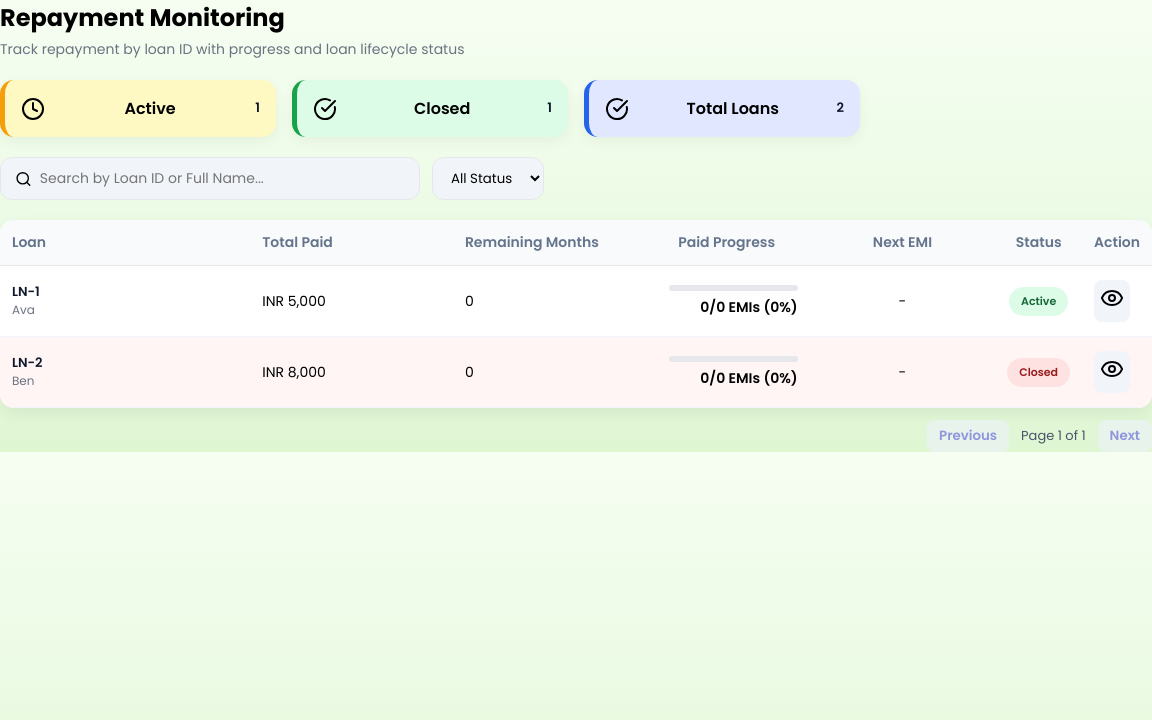
Test: Repayments › toggles status filter from KPI cards
Expected: the text "LN-1" is shown, [12,282,40,301]
Expected: the text "LN-2" is shown, [12,353,43,372]
Step 1. Click the button "Active 1" → (138, 108), box [0,80,276,137]
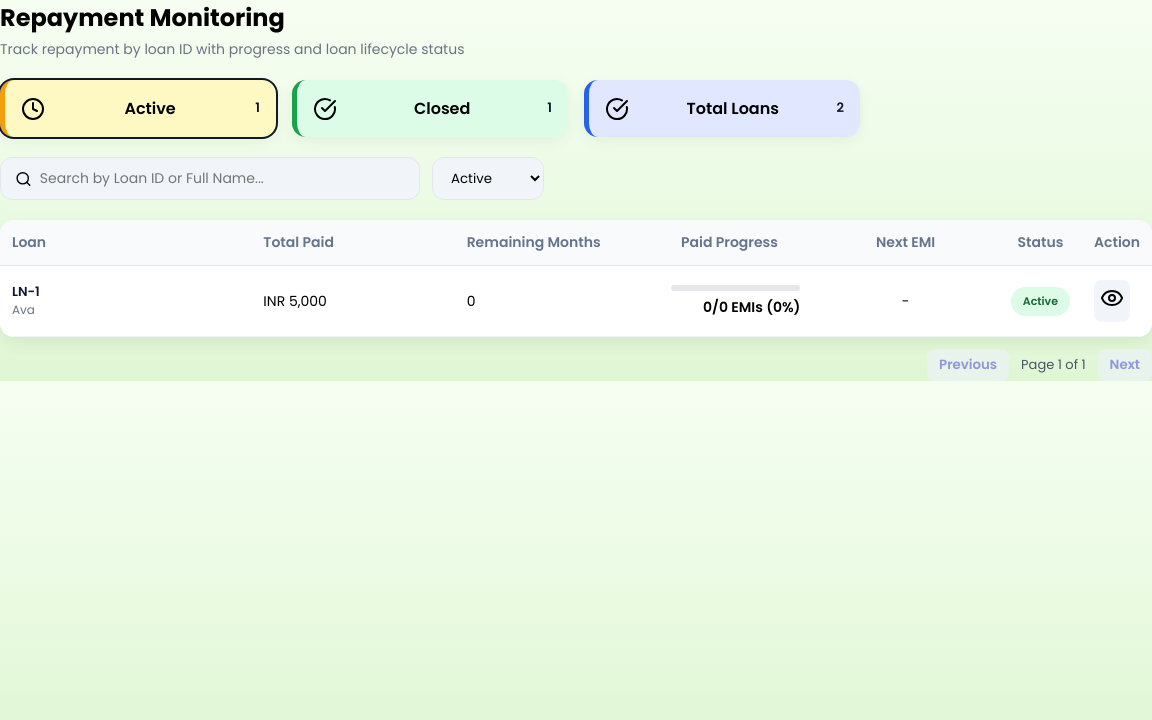
Expected: the text "LN-1" is shown, [12,282,40,301]
Now the text "LN-2" is gone
Step 2. Click the button "Active 1" → (138, 108), box [0,80,276,137]
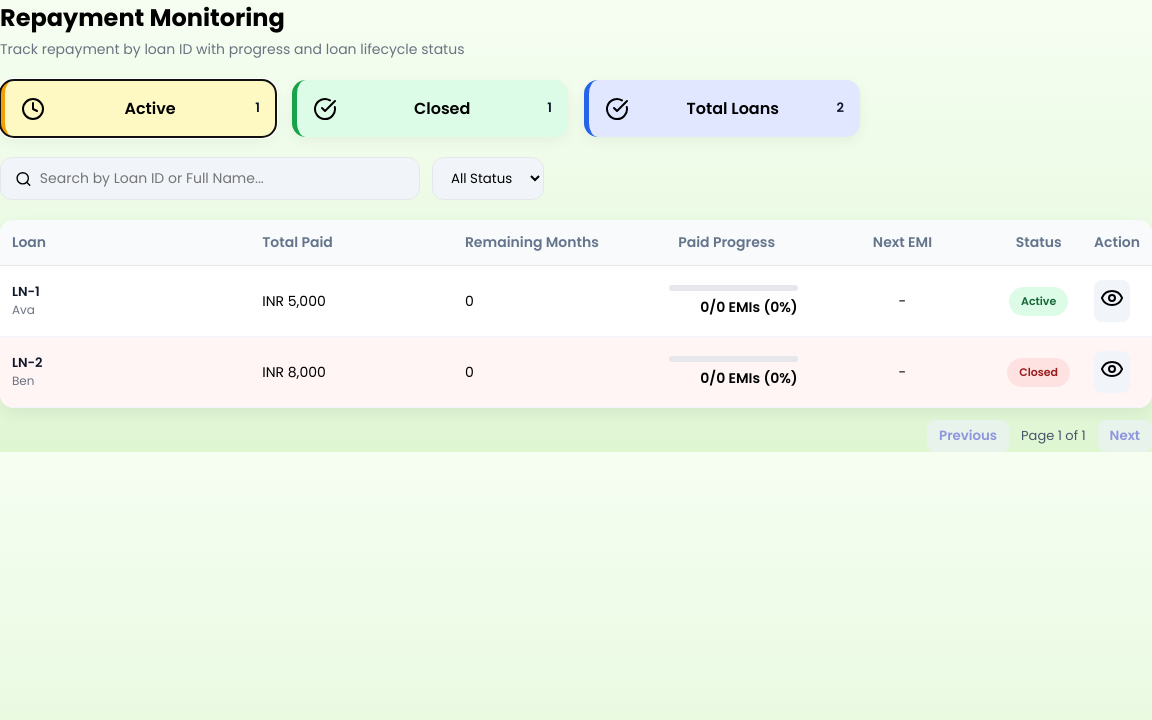
Expected: the text "LN-1" is shown, [12,282,40,301]
Now the text "LN-2" is shown, box [12,353,43,372]
